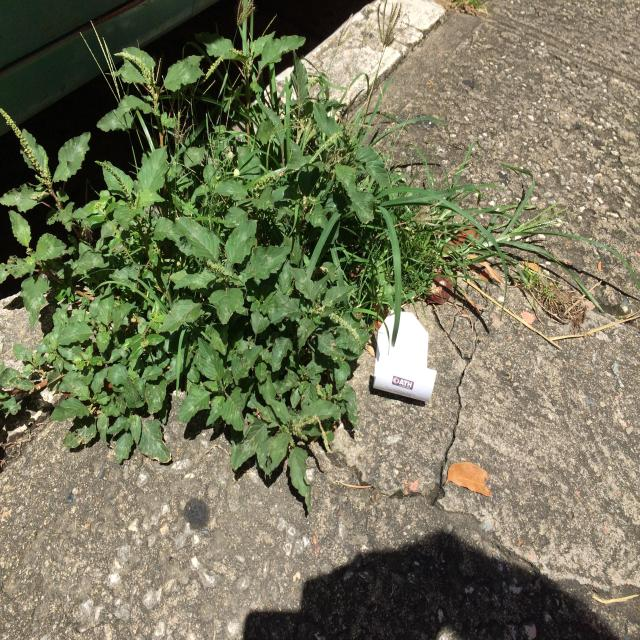litter: (373, 310, 437, 402)
